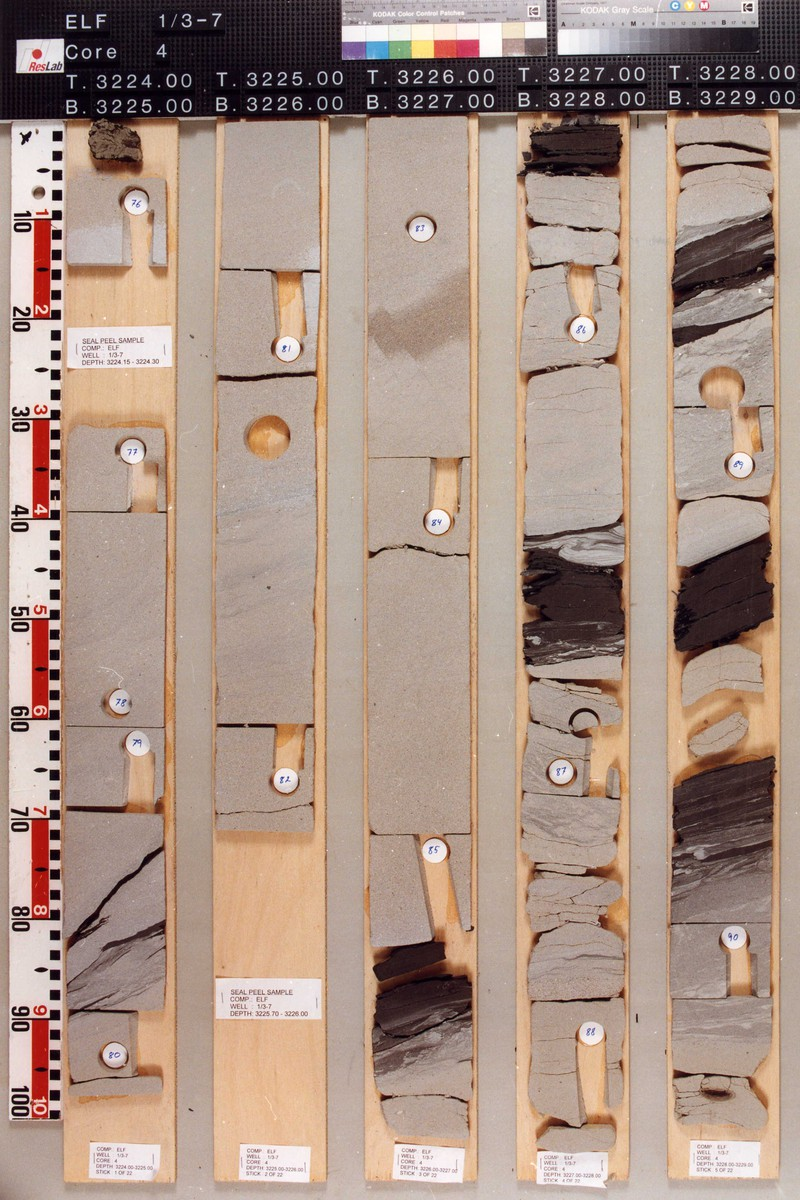core: (365, 116, 477, 1137), (518, 115, 626, 1153), (671, 114, 777, 1129), (216, 120, 321, 840), (63, 425, 171, 1105), (62, 121, 172, 273)
